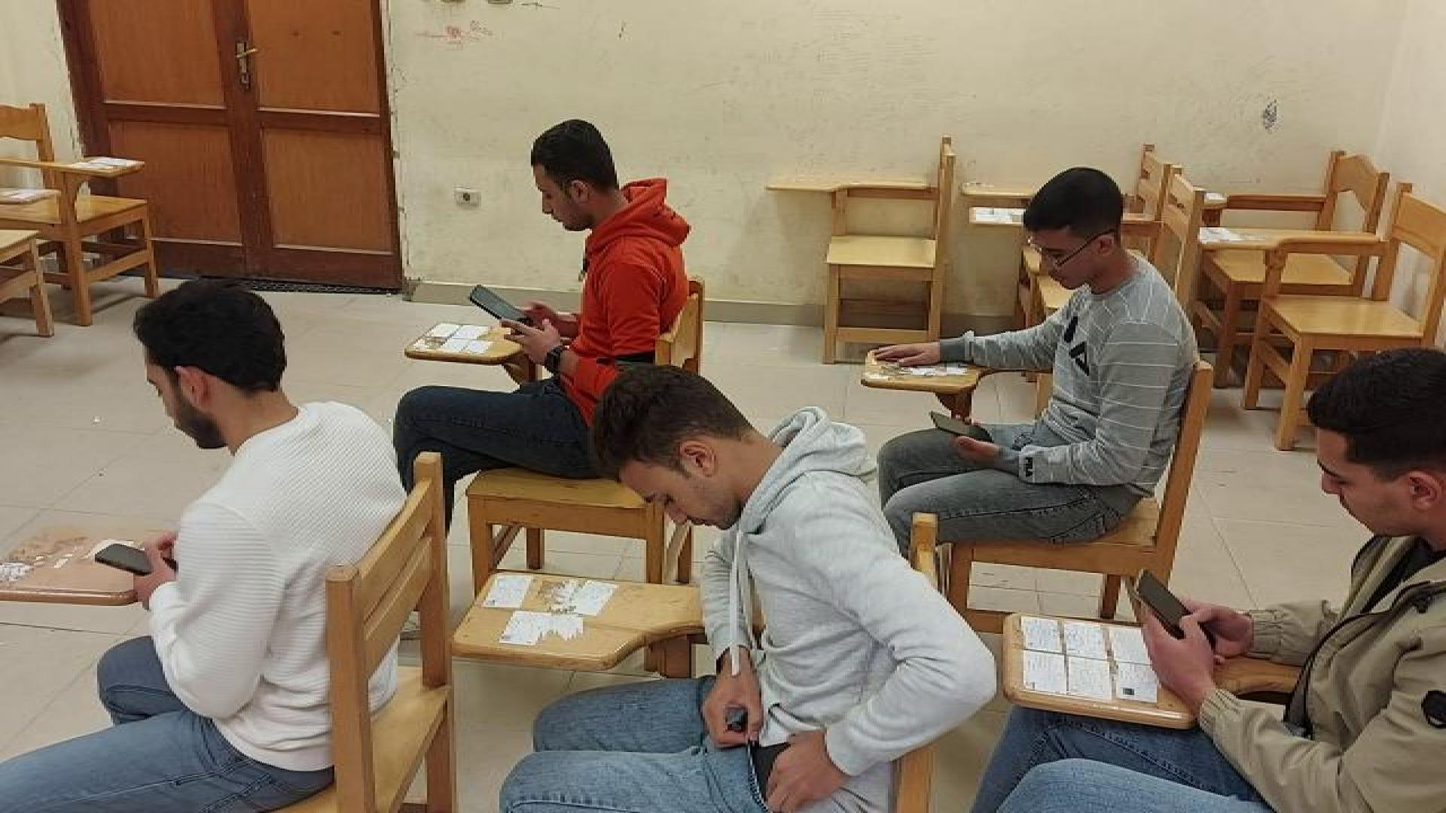phone: (1129, 559, 1221, 659), (86, 539, 185, 589), (463, 277, 538, 323), (923, 406, 984, 442)
